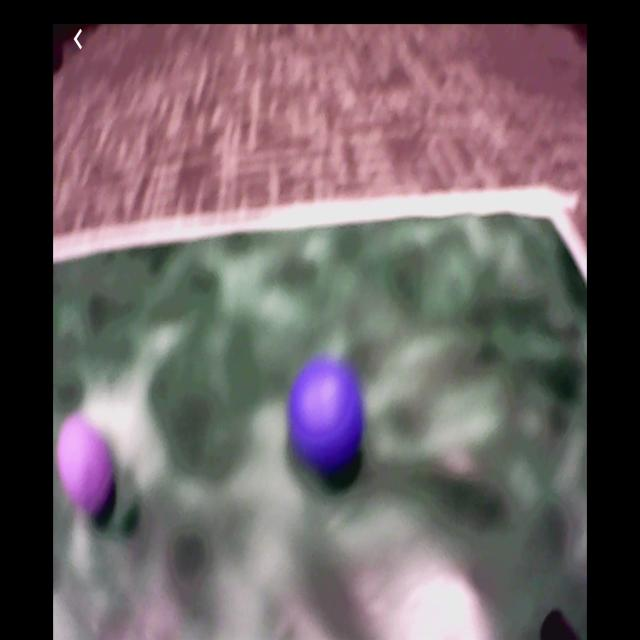ball: (290, 362, 363, 473), (60, 418, 114, 512)
